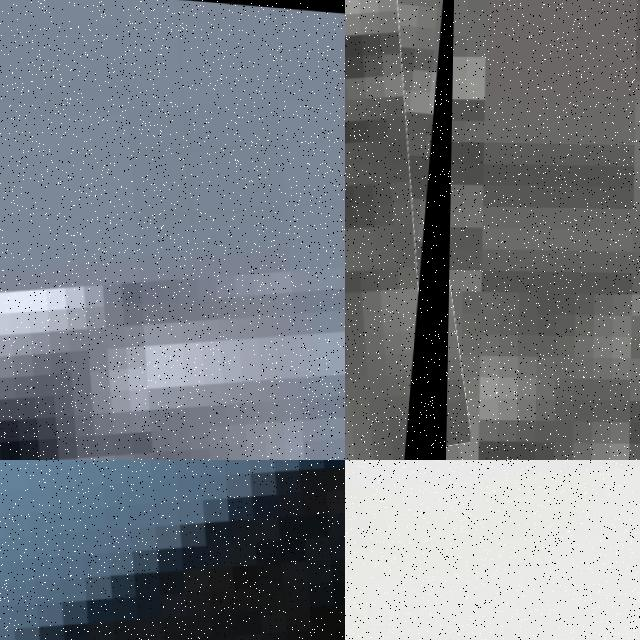drone: (0, 0, 345, 460), (0, 460, 345, 640), (345, 460, 640, 640), (345, 0, 456, 460)
